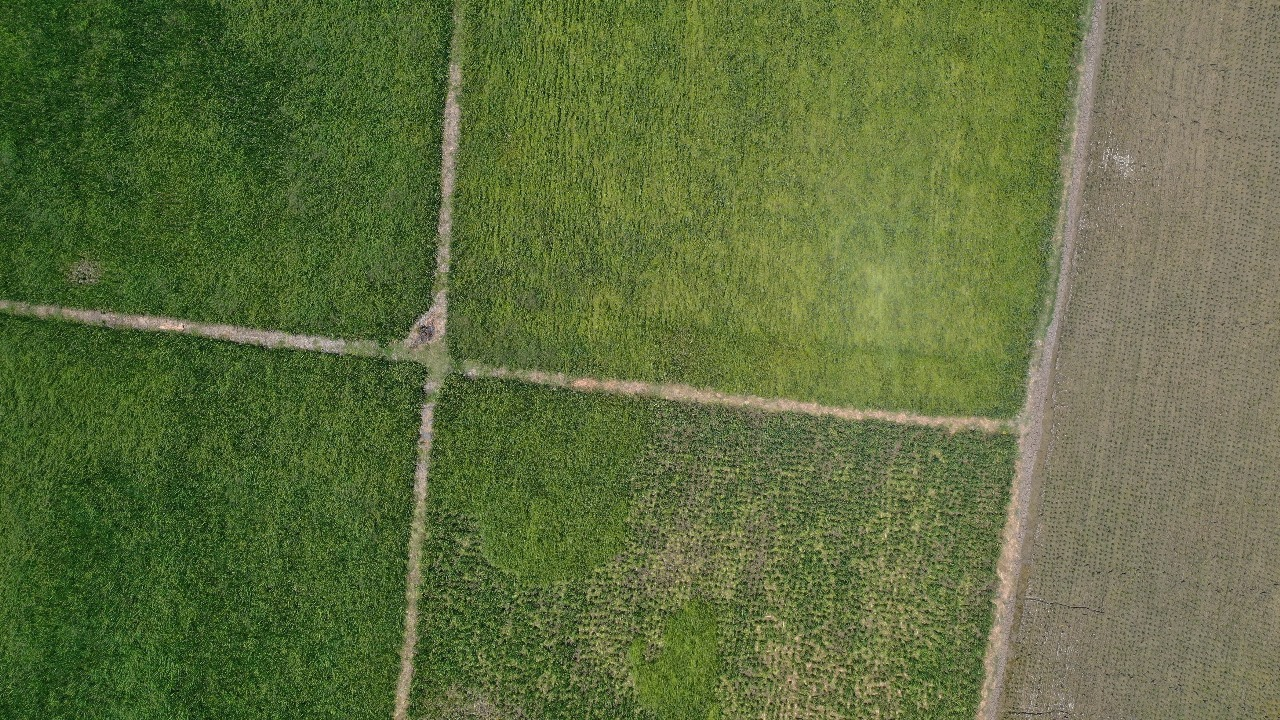irigation: (706, 384, 1015, 447), (442, 351, 718, 412), (233, 320, 445, 383), (435, 2, 474, 340), (4, 291, 235, 344), (393, 491, 438, 720), (413, 362, 455, 570)
